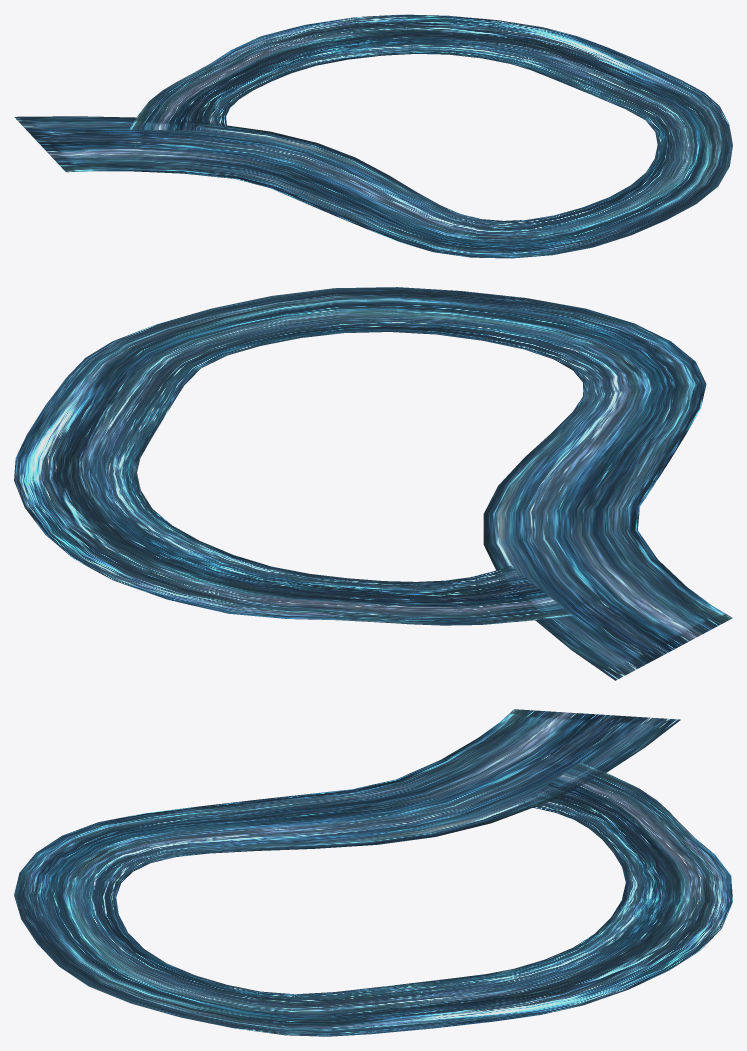
Rendered from heliu2_1.FBX.
The picture shows the model from 3 angles, top to bottom: view 1: azimuth 30°, elevation 25°; view 2: azimuth 150°, elevation 25°; view 3: azimuth 270°, elevation 25°; orthographic projection. The views are drawn at different scales.
Visible parts, largest first — view 1: Line001; view 2: Line001; view 3: Line001.
Part boxes in pixels (x1,y1,x2,y2): Line001: (14, 14, 732, 258); Line001: (14, 287, 732, 680); Line001: (14, 709, 732, 1036).
Size of the model in its own units: 27.69 by 7.28e-15 by 25.68.
Materials: 1 (1 with a texture image).
